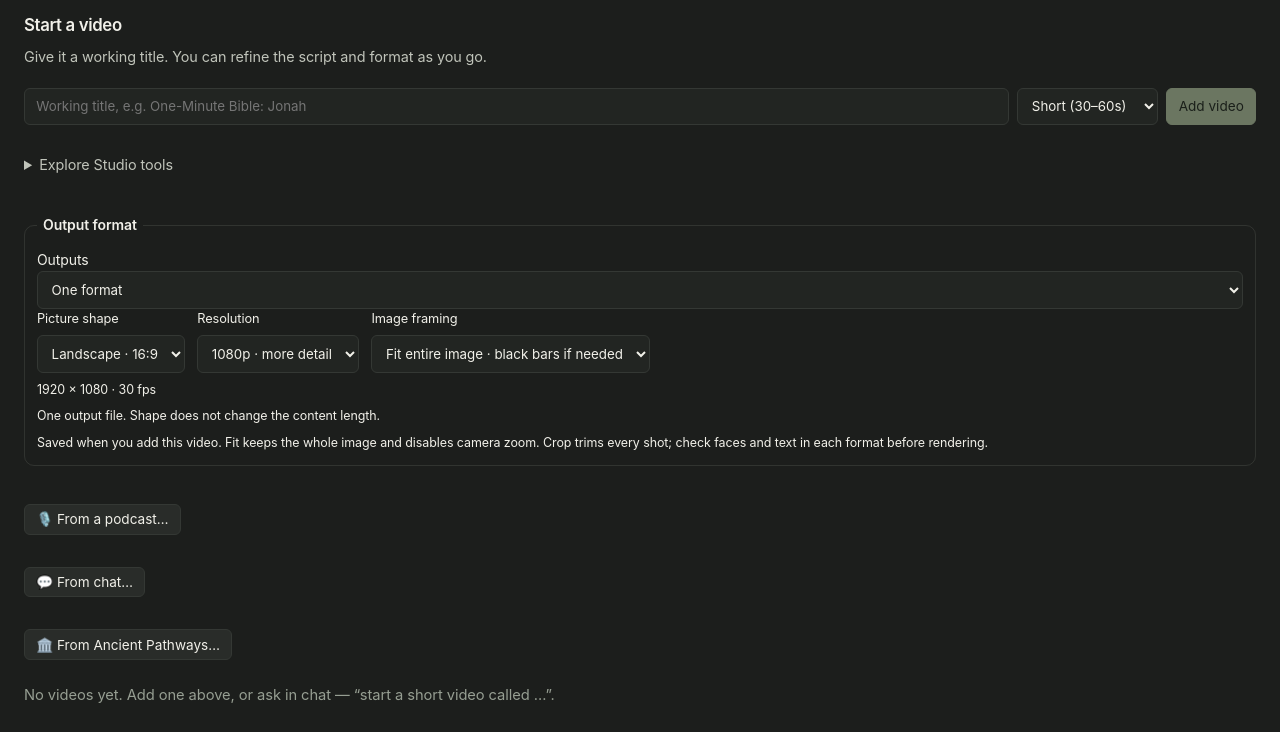
Test: Media Studio — from a podcast feed › lists episodes after a feed loads
(page scrolled)
Step 1. Click the button "From a podcast…" → [102, 519], box left=24, top=504, right=181, bottom=535
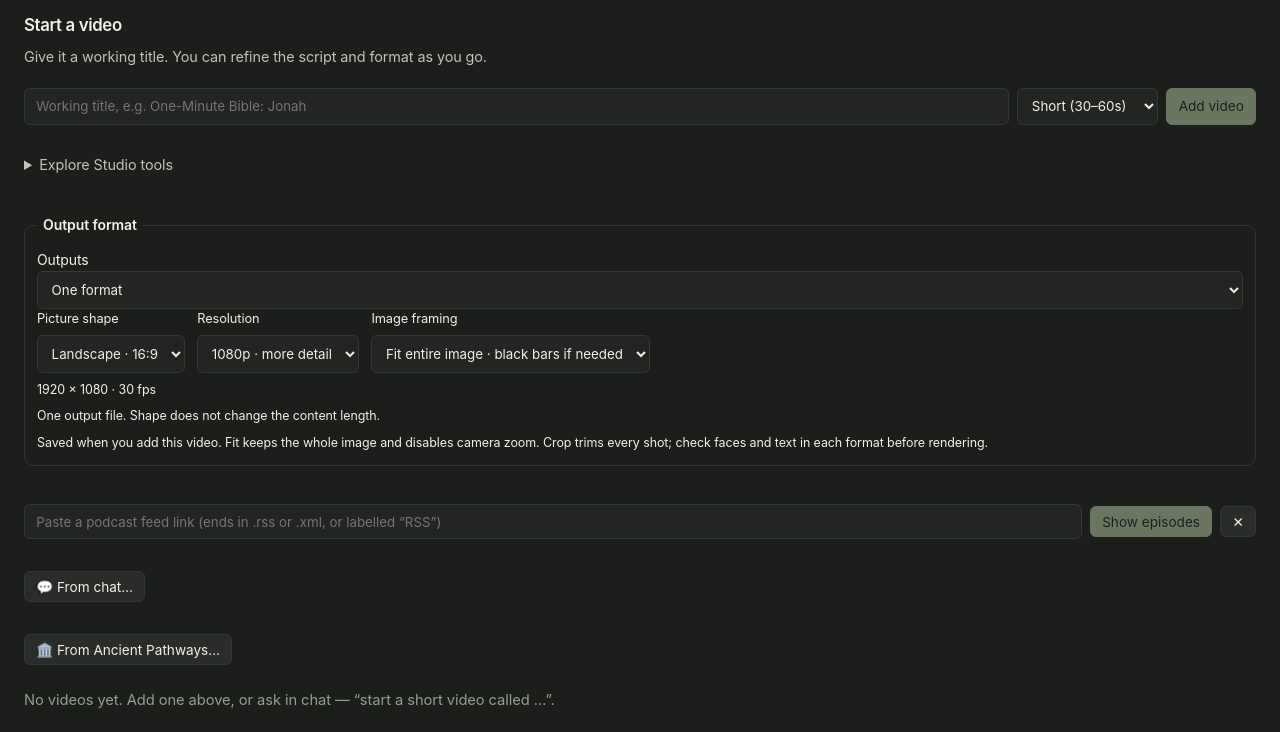
Step 2. Replace the text in the field labelled "podcast feed link" with "https://example.com/feed.xml" → [553, 522], box left=24, top=504, right=1082, bottom=540
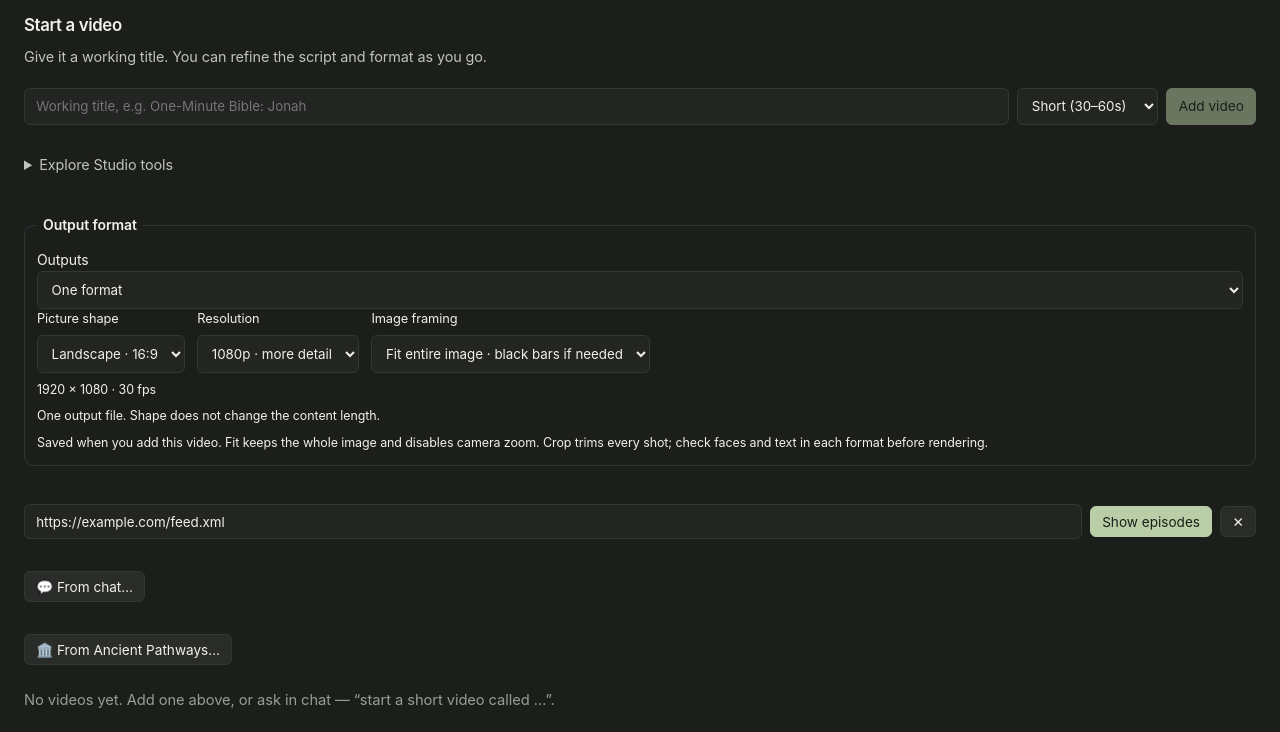
Step 3. Click the button "Show episodes" → [1151, 522], box left=1090, top=506, right=1212, bottom=537
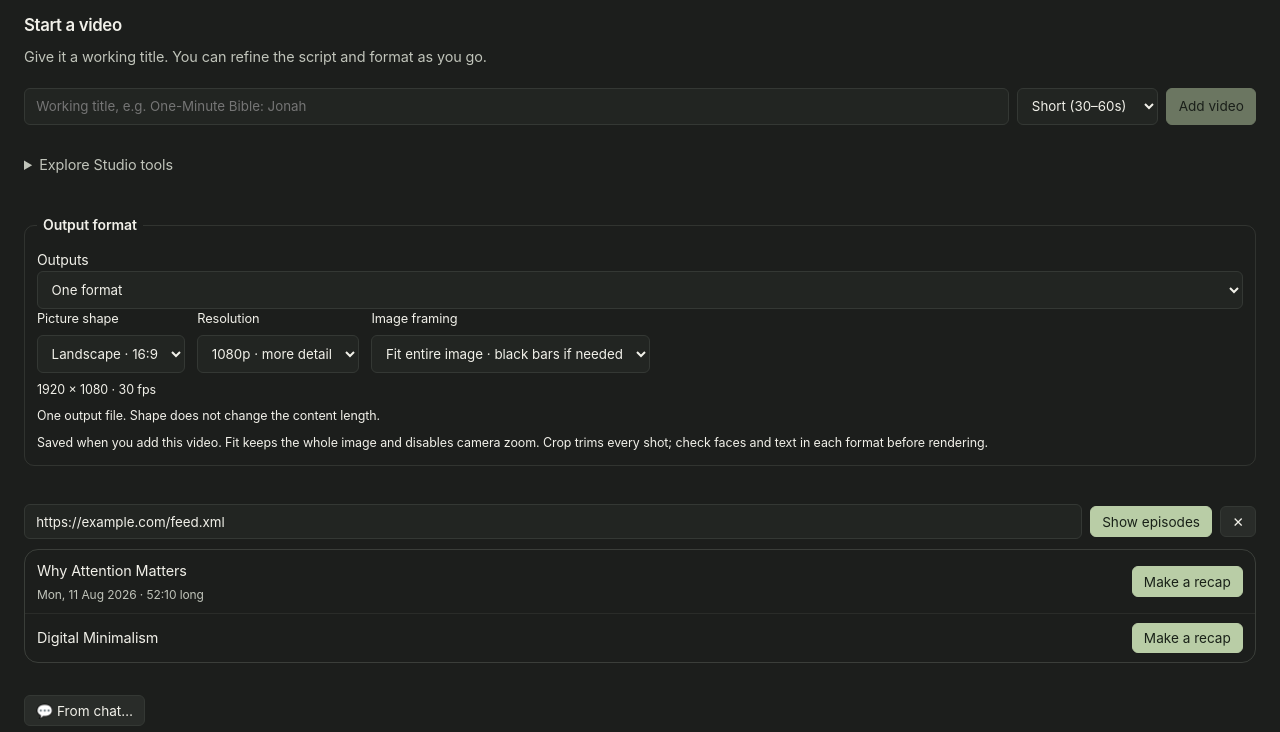
expect the text "Why Attention Matters" is shown: met, box left=37, top=560, right=204, bottom=582
expect the text "Digital Minimalism" is shown: met, box left=37, top=626, right=158, bottom=649
